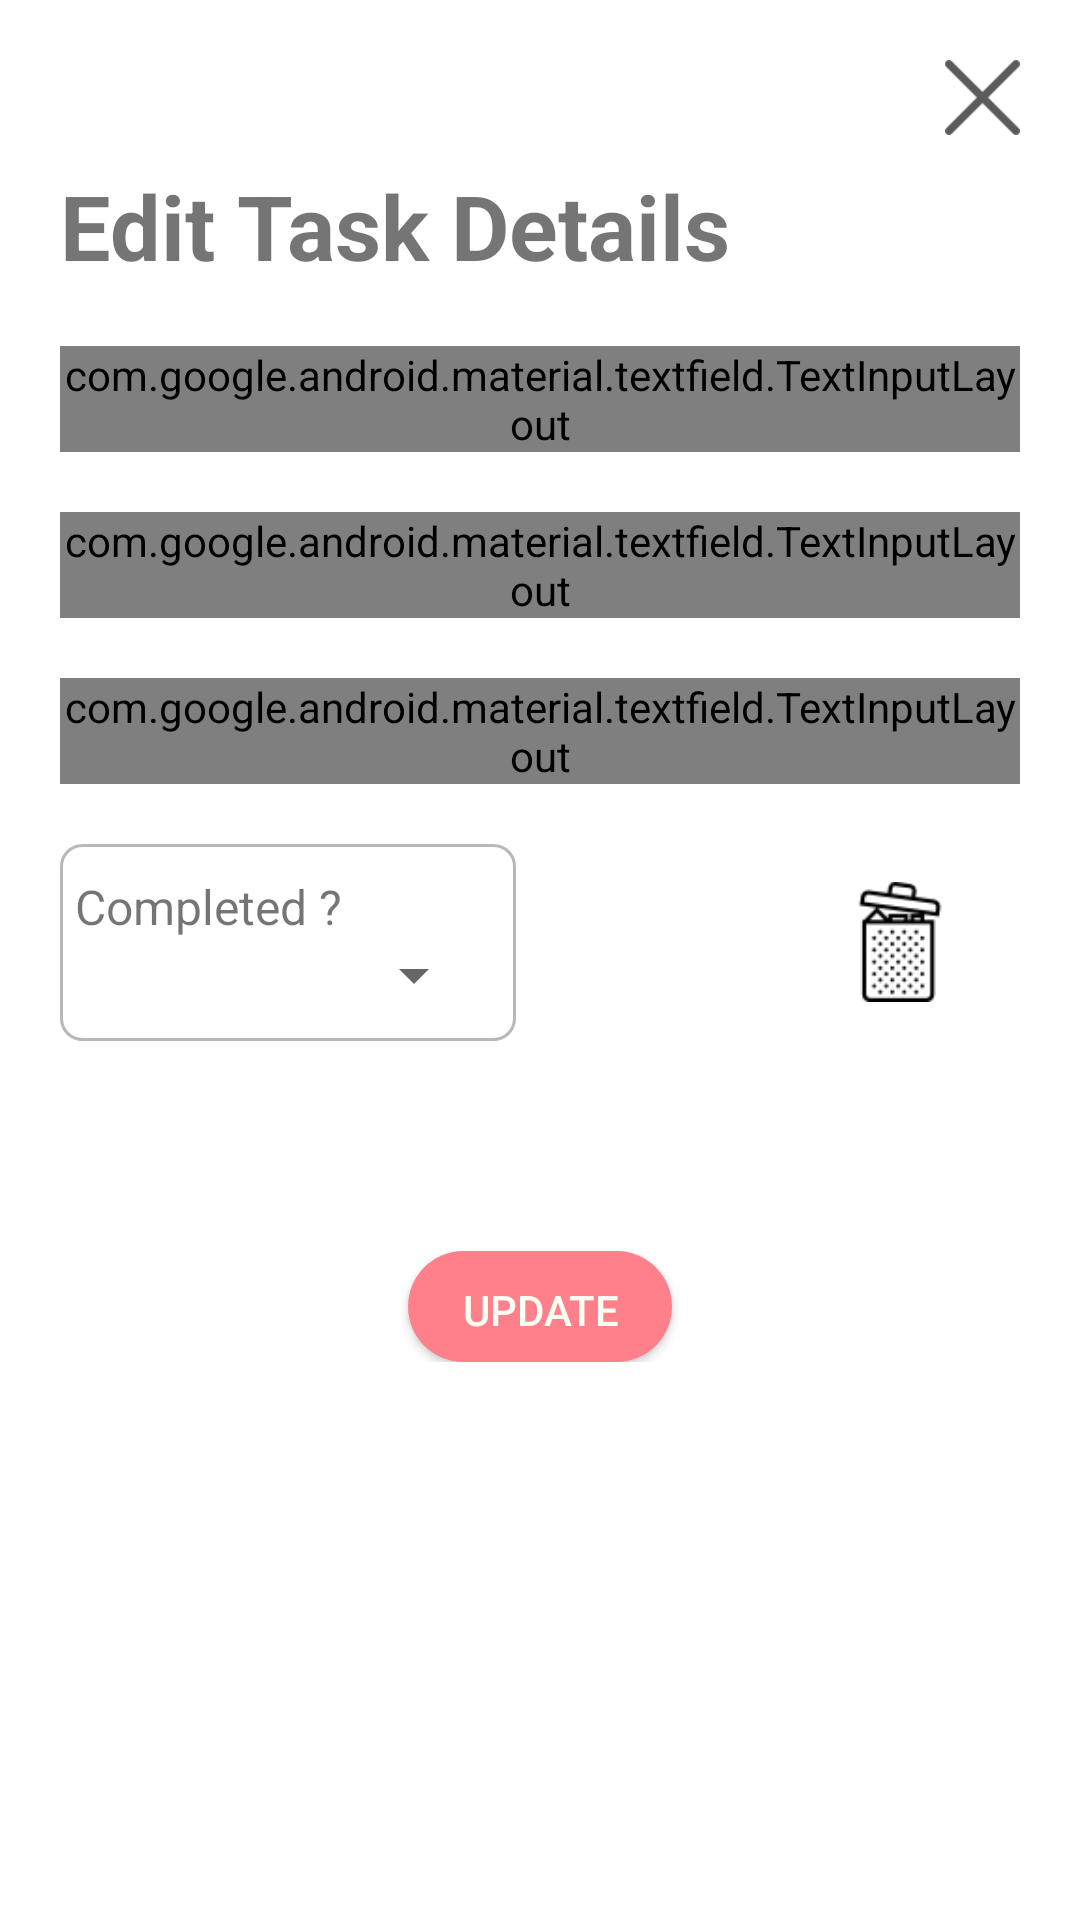

Named icons in this screenshot (1080*1920) and their bounding boxes, (x1, y1, x2, y2):
cancel: (945, 60, 1020, 135)
trash: (858, 882, 942, 1002)
